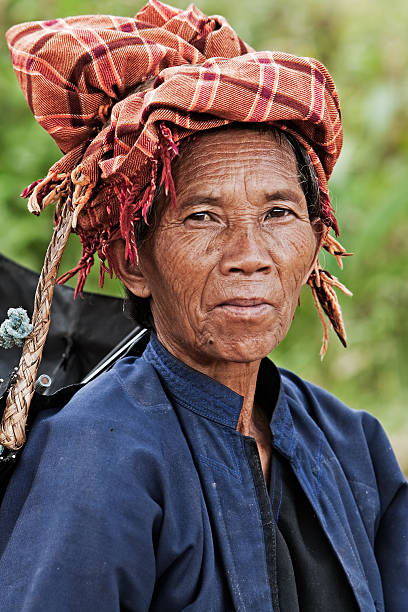face: (158, 149, 325, 363)
